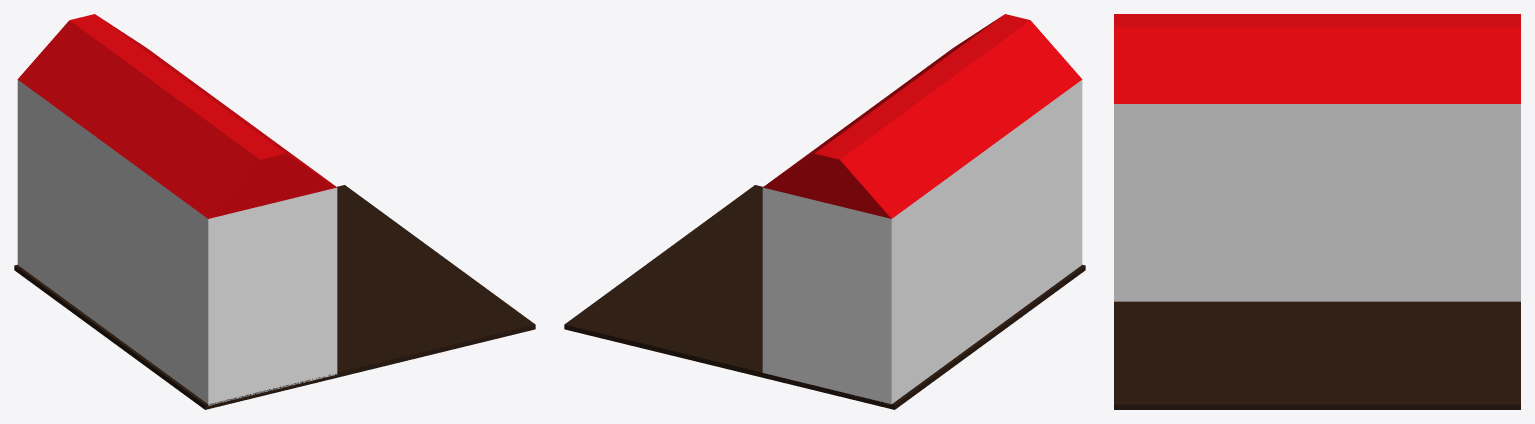
Rendered from farm.fbx.
The picture shows the model from 3 angles, left to right: view 1: azimuth 30°, elevation 25°; view 2: azimuth 150°, elevation 25°; view 3: azimuth 270°, elevation 25°; orthographic projection. The views are drawn at different scales.
Parts seen in each view (by area): view 1: Cube.001, Cube; view 2: Cube.001, Cube; view 3: Cube.001, Cube.
Part boxes in pixels (<box>): Cube.001: <box>17,14,337,405</box>; Cube: <box>14,185,535,409</box>; Cube.001: <box>762,14,1082,404</box>; Cube: <box>564,185,1085,409</box>; Cube.001: <box>1114,14,1520,301</box>; Cube: <box>1114,301,1520,409</box>.
Size of the model in its own units: 20 by 13.7 by 20.
